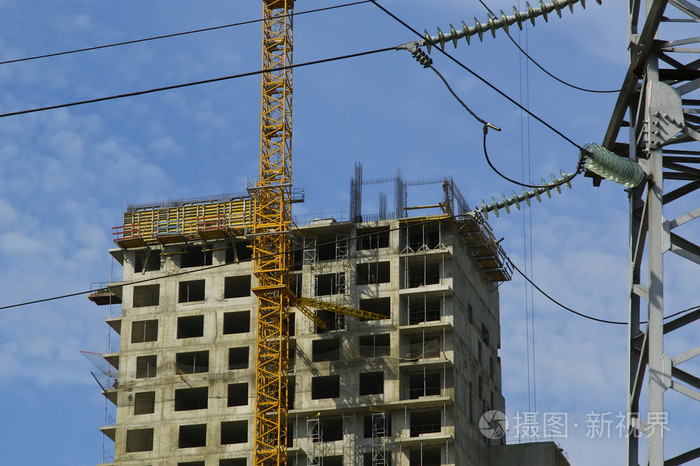insulator: (423, 1, 587, 54), (482, 167, 576, 218), (581, 140, 646, 188)
